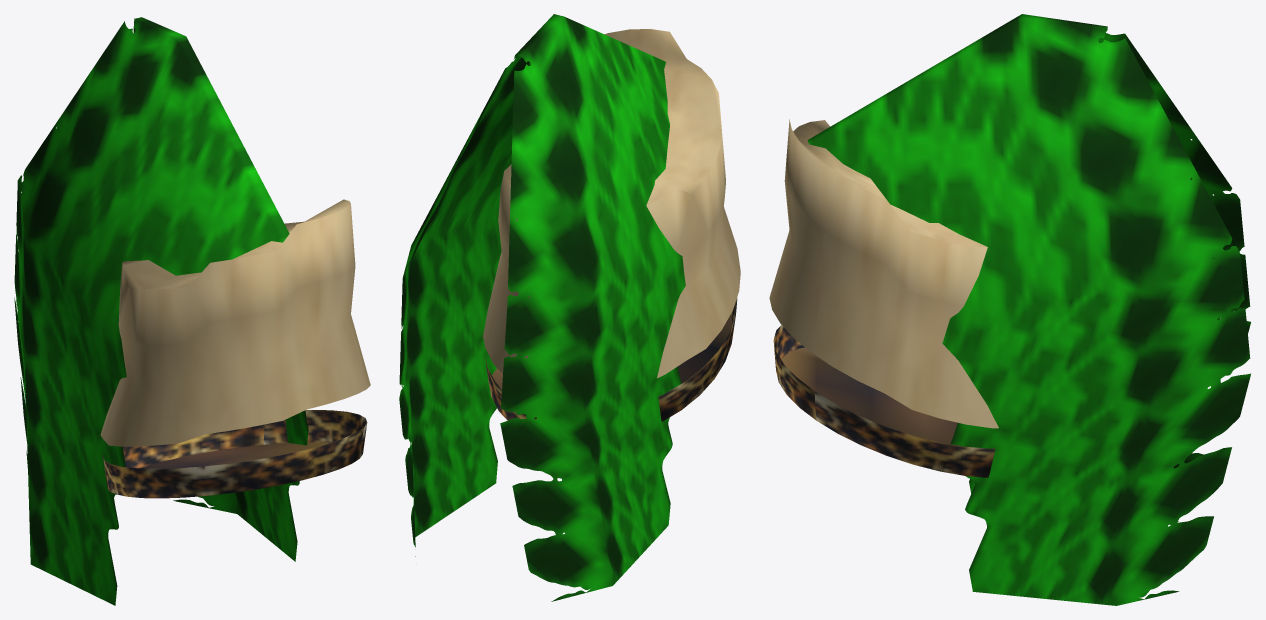
Rendered from maya_nobre_turb_2.dae.
3 views of the same model, side by side, from view 1: azimuth 30°, elevation 25°; view 2: azimuth 150°, elevation 25°; view 3: azimuth 270°, elevation 25° (orthographic). The views are drawn at different scales.
Parts seen in each view (by area): view 1: helmet_b_ 11; view 2: helmet_b_ 11; view 3: helmet_b_ 11.
Boxes of the visible parts, box(x1,y1,x2,y2) form: helmet_b_ 11: box(14, 17, 370, 605); helmet_b_ 11: box(399, 14, 740, 601); helmet_b_ 11: box(769, 14, 1250, 605).
Bounding box in the file's own units: 0.5179 × 0.9351 × 1.16.
